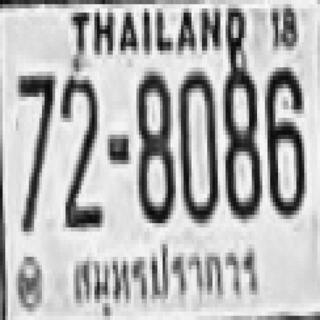N00: (177, 67, 216, 219)
N02: (60, 74, 100, 225)
N06: (264, 63, 306, 215)
N07: (16, 70, 52, 230)
N08: (223, 63, 260, 215), (136, 67, 173, 219)
P57: (71, 242, 265, 320)
